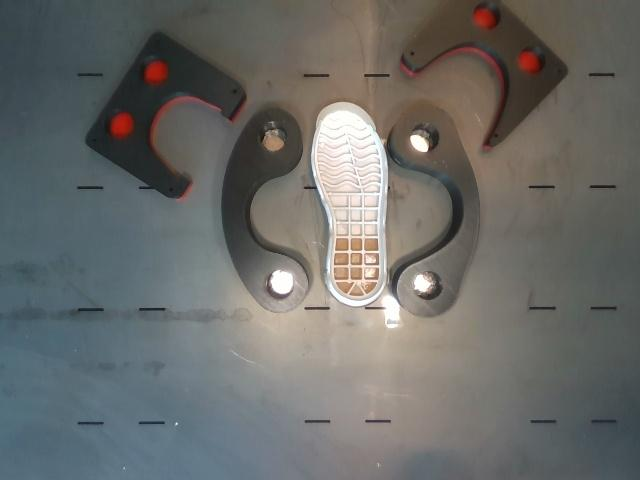shoes: (314, 103, 387, 302)
